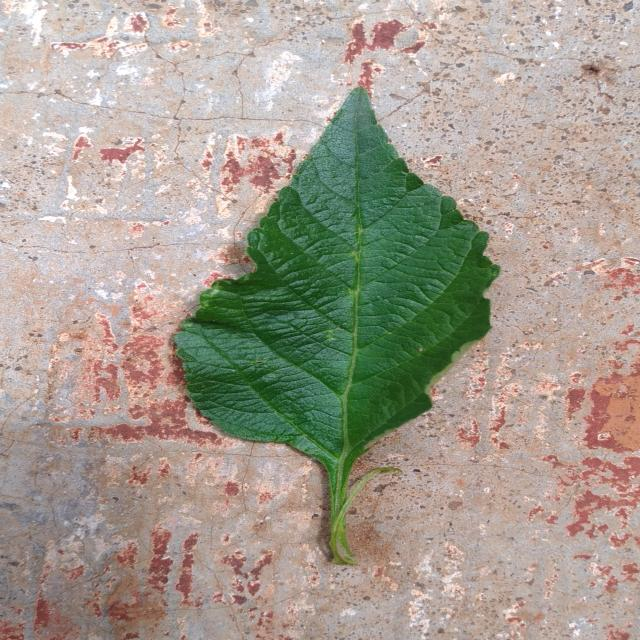Lantana: (173, 88, 500, 565)
